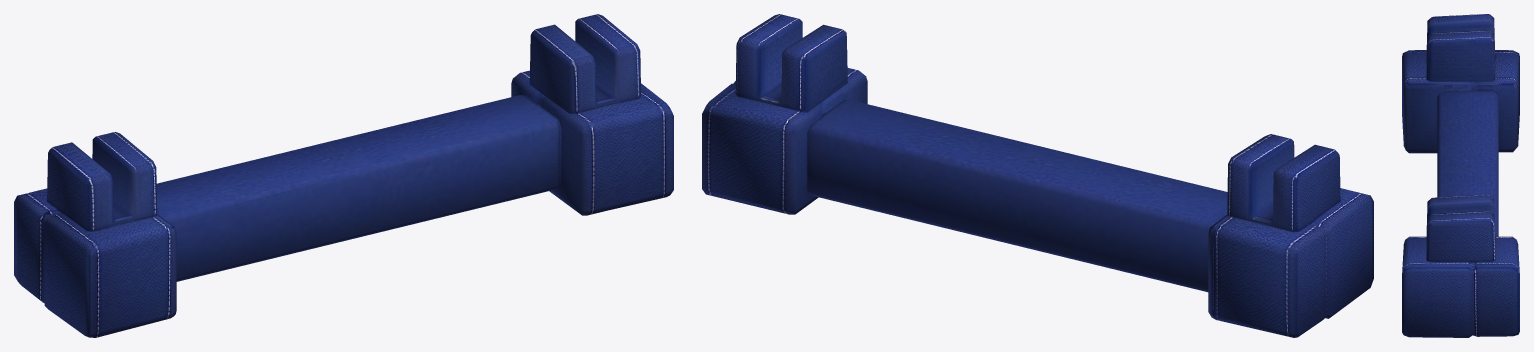
The model's file is stand.glb.
3 views of the same model, side by side, from view 1: azimuth 30°, elevation 25°; view 2: azimuth 150°, elevation 25°; view 3: azimuth 270°, elevation 25° (orthographic). The views are drawn at different scales.
Visible parts, largest first — view 1: tripo_node_423b701d-ac0c-4980-a8b2-1e4528d89f18; view 2: tripo_node_423b701d-ac0c-4980-a8b2-1e4528d89f18; view 3: tripo_node_423b701d-ac0c-4980-a8b2-1e4528d89f18.
Part boxes in pixels (x1=…): tripo_node_423b701d-ac0c-4980-a8b2-1e4528d89f18: x1=14, y1=14, x2=673, y2=337; tripo_node_423b701d-ac0c-4980-a8b2-1e4528d89f18: x1=702, y1=14, x2=1373, y2=337; tripo_node_423b701d-ac0c-4980-a8b2-1e4528d89f18: x1=1402, y1=14, x2=1519, y2=337.
Size of the model in its own units: 0.9995 by 0.2417 by 0.2261.
1 material, 1 textured.
